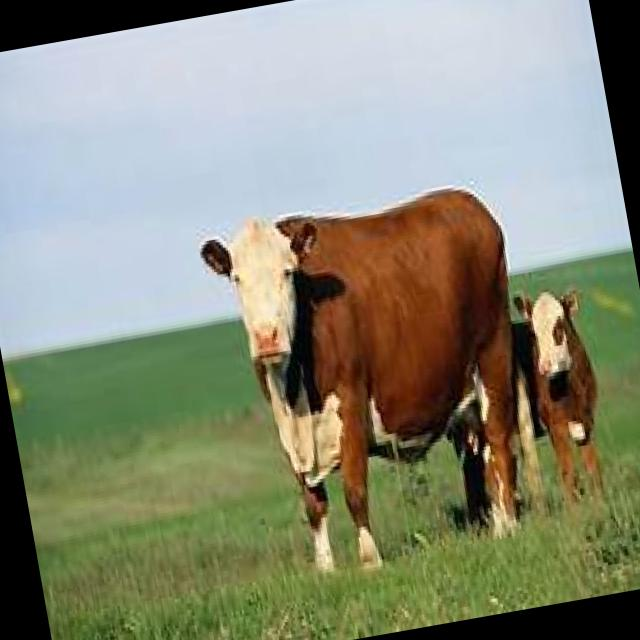animal: (197, 170, 558, 587), (426, 279, 619, 534)
